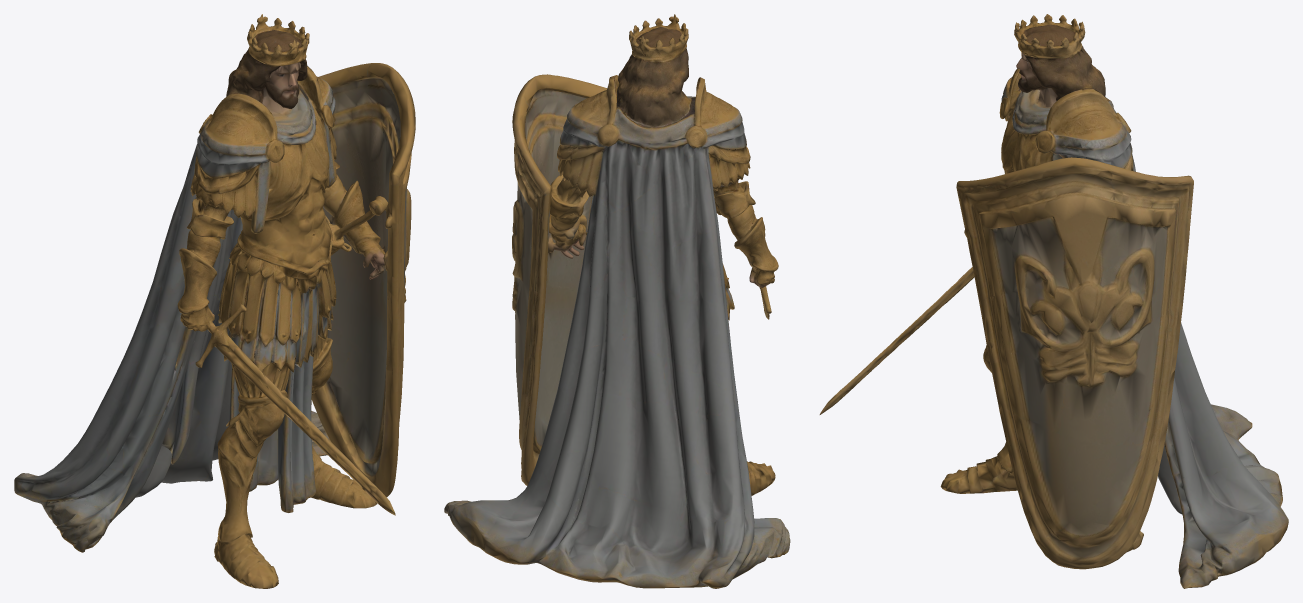
File: michael.glb
3 renders of one model, left to right at view 1: azimuth 30°, elevation 25°; view 2: azimuth 150°, elevation 25°; view 3: azimuth 270°, elevation 25°, orthographic. The views are drawn at different scales.
Size of the model in its own units: 1.28 by 1.9 by 1.63.
1 material, 1 textured.
